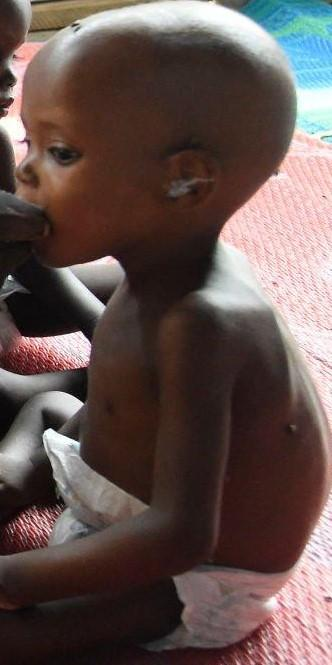Stunting: (0, 23, 313, 305)
